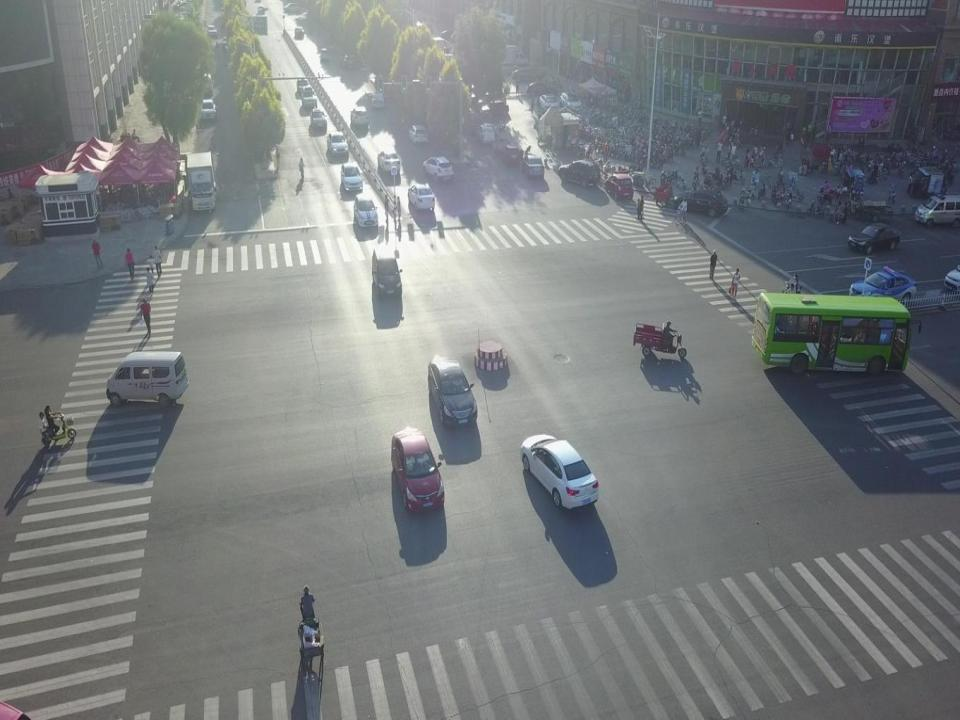bus: (754, 292, 909, 374)
car: (520, 434, 598, 514), (391, 428, 445, 513), (428, 357, 478, 426), (848, 268, 918, 307), (672, 187, 728, 216), (848, 224, 900, 253), (372, 248, 401, 300), (559, 158, 601, 188), (354, 193, 378, 227), (603, 170, 633, 197), (422, 155, 454, 180), (409, 183, 435, 211), (339, 161, 363, 190), (522, 153, 545, 180), (327, 131, 348, 157), (560, 90, 584, 112), (377, 149, 401, 171), (477, 99, 508, 115), (502, 145, 524, 167), (475, 122, 496, 145), (527, 81, 558, 96), (408, 123, 428, 145), (538, 93, 560, 112), (511, 68, 537, 84), (199, 98, 217, 121), (350, 106, 369, 126), (493, 61, 521, 74), (301, 86, 318, 106), (311, 108, 327, 128), (340, 52, 356, 70), (371, 91, 386, 109), (297, 76, 309, 92), (319, 46, 329, 63), (206, 25, 217, 40), (294, 25, 304, 38), (257, 6, 265, 14)
truck: (185, 150, 216, 212), (494, 42, 530, 66)
van: (105, 353, 188, 399), (914, 195, 960, 226), (196, 66, 214, 95), (283, 2, 300, 13)
